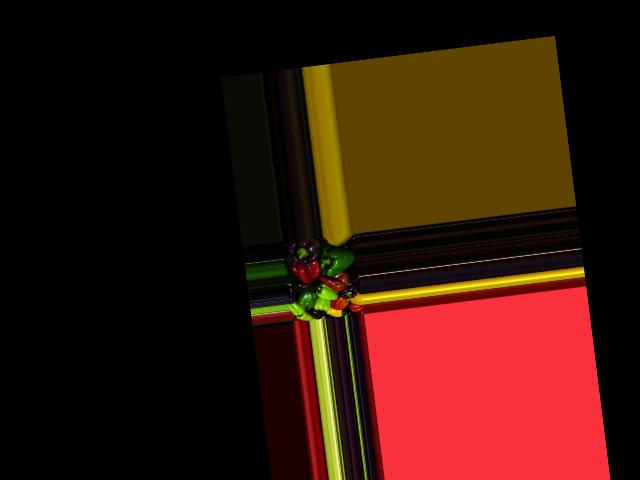bell_pepper: (338, 282, 360, 302)
